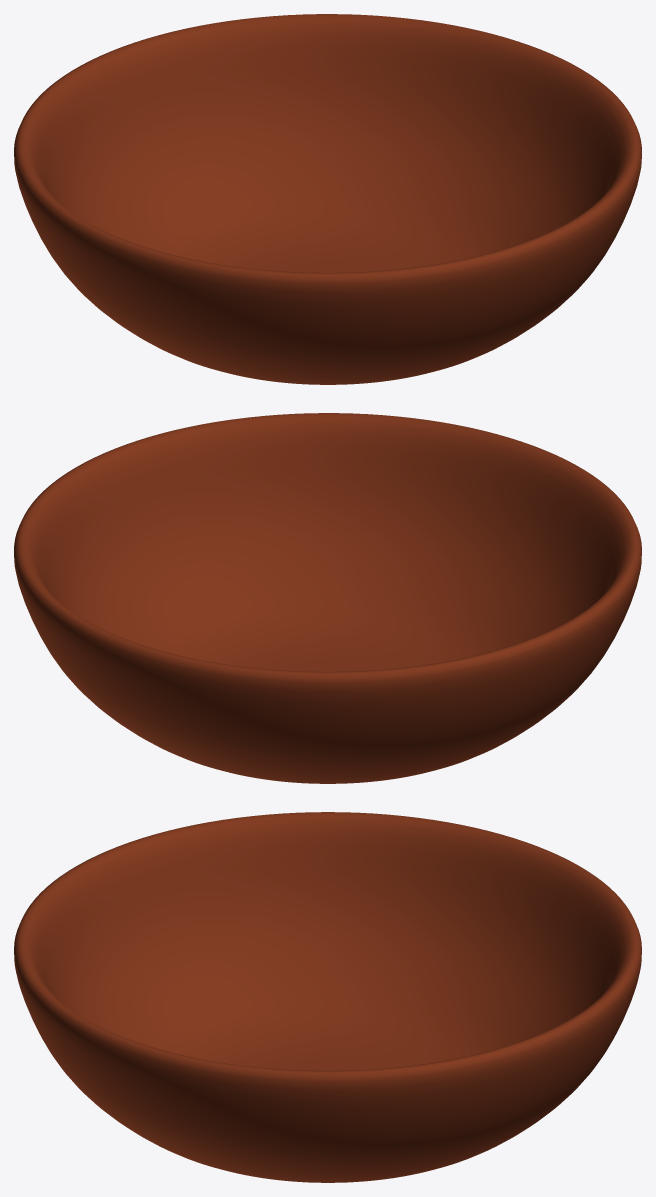
Rendered from IncenseBurner.fbx.
The picture shows the model from 3 angles, top to bottom: view 1: azimuth 30°, elevation 25°; view 2: azimuth 150°, elevation 25°; view 3: azimuth 270°, elevation 25°; orthographic projection.
Visible parts, largest first — view 1: Sphere; view 2: Sphere; view 3: Sphere.
Boxes of the visible parts, x1,y1,x2,y2 form: Sphere: (14, 14, 641, 384); Sphere: (14, 413, 641, 783); Sphere: (14, 812, 641, 1182).
Bounding box in the file's own units: 19.02 × 5.85 × 19.02.
